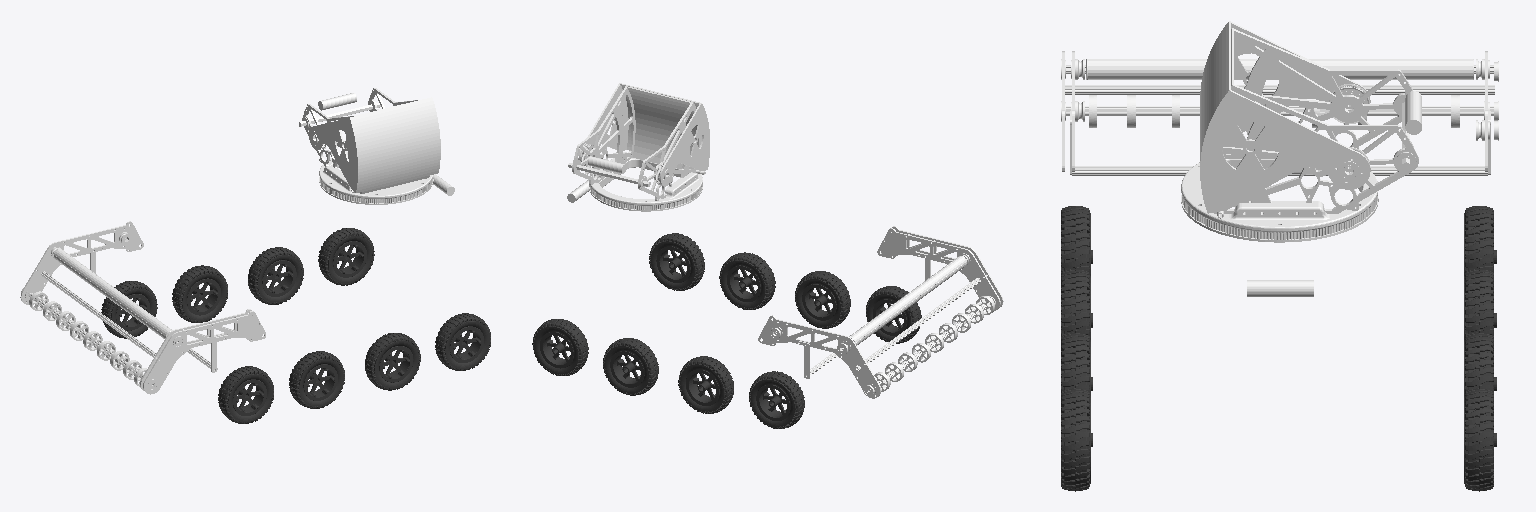
robot.urdf — robot:
<?xml version="1.0" ?>
<!-- =================================================================================== -->
<!-- |    This document was autogenerated by xacro from [local-path]/robot-frc/src/robot_urdf/urdf/robot.urdf.xacro | -->
<!-- |    EDITING THIS FILE BY HAND IS NOT RECOMMENDED                                 | -->
<!-- =================================================================================== -->
<robot name="robot" xmlns:xacro="http://www.ros.org/wiki/xacro">
  <material name="blue">
    <color rgba="0 0 0.8 1.0"/>
  </material>
  <material name="black">
    <color rgba="0.3 0.3 0.3 0.9"/>
  </material>
  <material name="white">
    <color rgba="1 1 1 0.6"/>
  </material>
  <material name="green">
    <color rgba="0 1 0"/>
  </material>
  <!-- Base -->
  <link name="base_link">
    <visual>
      <geometry>
        <mesh filename="package://robot_urdf/meshes/base.stl"/>
      </geometry>
      <origin rpy="1.57075 0 1.57075" xyz="-0.08 -0.525 0.0"/>
      <material name="blue"/>
    </visual>
    <collision>
      <geometry>
        <box size="0.68 0.68 0.36"/>
      </geometry>
      <origin rpy="0 0 0" xyz="0.1 0 0.221"/>
    </collision>
    <collision>
      <geometry>
        <box size="0.3 0.68 0.12"/>
      </geometry>
      <origin rpy="0 0 0" xyz="-0.32 0 0.1"/>
    </collision>
    <inertial>
      <mass value="27"/>
      <inertia ixx="3.44123325" ixy="0.0" ixz="0.0" iyy="3.13929225" iyz="0.0" izz="1.815741"/>
    </inertial>
  </link>
  <!-- Right Wheels -->
  <link name="front_right_wheel">
    <visual>
      <geometry>
        <mesh filename="package://robot_urdf/meshes/wheel.stl"/>
      </geometry>
      <origin rpy="0 1.57075 1.57075" xyz="0 -0.0127 0"/>
      <material name="black"/>
    </visual>
    <collision>
      <geometry>
        <cylinder length="0.0254" radius="0.0762"/>
      </geometry>
      <origin rpy="0 1.57075 1.57075" xyz="0 -0.0127 0"/>
    </collision>
    <inertial>
      <mass value="0.453592"/>
      <inertia ixx="0.4" ixy="0.0" ixz="0.0" iyy="0.4" iyz="0.0" izz="0.2"/>
    </inertial>
  </link>
  <joint name="base_to_front_right_wheel" type="fixed">
    <parent link="base_link"/>
    <child link="front_right_wheel"/>
    <axis xyz="0 1 0"/>
    <origin xyz="0.315 -0.29 0.028"/>
  </joint>
  <link name="front_middle_right_wheel">
    <visual>
      <geometry>
        <mesh filename="package://robot_urdf/meshes/wheel.stl"/>
      </geometry>
      <origin rpy="0 1.57075 1.57075" xyz="0 -0.0127 0"/>
      <material name="black"/>
    </visual>
    <collision>
      <geometry>
        <cylinder length="0.0254" radius="0.0762"/>
      </geometry>
      <origin rpy="0 1.57075 1.57075" xyz="0 -0.0127 0"/>
    </collision>
    <inertial>
      <mass value="0.453592"/>
      <inertia ixx="0.4" ixy="0.0" ixz="0.0" iyy="0.4" iyz="0.0" izz="0.2"/>
    </inertial>
  </link>
  <joint name="base_to_front_middle_right_wheel" type="fixed">
    <parent link="base_link"/>
    <child link="front_middle_right_wheel"/>
    <axis xyz="0 1 0"/>
    <origin xyz="0.104 -0.29 0.022"/>
  </joint>
  <link name="back_middle_right_wheel">
    <visual>
      <geometry>
        <mesh filename="package://robot_urdf/meshes/wheel.stl"/>
      </geometry>
      <origin rpy="0 1.57075 1.57075" xyz="0 -0.0127 0"/>
      <material name="black"/>
    </visual>
    <collision>
      <geometry>
        <cylinder length="0.0254" radius="0.0762"/>
      </geometry>
      <origin rpy="0 1.57075 1.57075" xyz="0 -0.0127 0"/>
    </collision>
    <inertial>
      <mass value="0.453592"/>
      <inertia ixx="0.4" ixy="0.0" ixz="0.0" iyy="0.4" iyz="0.0" izz="0.2"/>
    </inertial>
  </link>
  <joint name="base_to_back_middle_right_wheel" type="fixed">
    <parent link="base_link"/>
    <child link="back_middle_right_wheel"/>
    <axis xyz="0 1 0"/>
    <origin xyz="-0.122 -0.29 0.022"/>
  </joint>
  <link name="back_right_wheel">
    <visual>
      <geometry>
        <mesh filename="package://robot_urdf/meshes/wheel.stl"/>
      </geometry>
      <origin rpy="0 1.57075 1.57075" xyz="0 -0.0127 0"/>
      <material name="black"/>
    </visual>
    <collision>
      <geometry>
        <cylinder length="0.0254" radius="0.0762"/>
      </geometry>
      <origin rpy="0 1.57075 1.57075" xyz="0 -0.0127 0"/>
    </collision>
    <inertial>
      <mass value="0.453592"/>
      <inertia ixx="0.4" ixy="0.0" ixz="0.0" iyy="0.4" iyz="0.0" izz="0.2"/>
    </inertial>
  </link>
  <joint name="base_to_back_right_wheel" type="fixed">
    <parent link="base_link"/>
    <child link="back_right_wheel"/>
    <axis xyz="0 1 0"/>
    <origin xyz="-0.334 -0.29 0.028"/>
  </joint>
  <!-- Left Wheels -->
  <link name="front_left_wheel">
    <visual>
      <geometry>
        <mesh filename="package://robot_urdf/meshes/wheel.stl"/>
      </geometry>
      <origin rpy="0 1.57075 1.57075" xyz="0 0.0127 0"/>
      <material name="black"/>
    </visual>
    <collision>
      <geometry>
        <cylinder length="0.0254" radius="0.0762"/>
      </geometry>
      <origin rpy="0 1.57075 1.57075" xyz="0 0.0127 0"/>
    </collision>
    <inertial>
      <mass value="0.453592"/>
      <inertia ixx="0.4" ixy="0.0" ixz="0.0" iyy="0.4" iyz="0.0" izz="0.2"/>
    </inertial>
  </link>
  <joint name="base_to_front_left_wheel" type="fixed">
    <parent link="base_link"/>
    <child link="front_left_wheel"/>
    <axis xyz="0 1 0"/>
    <origin xyz="0.315 0.29 0.028"/>
  </joint>
  <link name="front_middle_left_wheel">
    <visual>
      <geometry>
        <mesh filename="package://robot_urdf/meshes/wheel.stl"/>
      </geometry>
      <origin rpy="0 1.57075 1.57075" xyz="0 0.0127 0"/>
      <material name="black"/>
    </visual>
    <collision>
      <geometry>
        <cylinder length="0.0254" radius="0.0762"/>
      </geometry>
      <origin rpy="0 1.57075 1.57075" xyz="0 0.0127 0"/>
    </collision>
    <inertial>
      <mass value="0.453592"/>
      <inertia ixx="0.4" ixy="0.0" ixz="0.0" iyy="0.4" iyz="0.0" izz="0.2"/>
    </inertial>
  </link>
  <joint name="base_to_front_middle_left_wheel" type="fixed">
    <parent link="base_link"/>
    <child link="front_middle_left_wheel"/>
    <axis xyz="0 1 0"/>
    <origin xyz="0.104 0.29 0.022"/>
  </joint>
  <link name="back_middle_left_wheel">
    <visual>
      <geometry>
        <mesh filename="package://robot_urdf/meshes/wheel.stl"/>
      </geometry>
      <origin rpy="0 1.57075 1.57075" xyz="0 0.0127 0"/>
      <material name="black"/>
    </visual>
    <collision>
      <geometry>
        <cylinder length="0.0254" radius="0.0762"/>
      </geometry>
      <origin rpy="0 1.57075 1.57075" xyz="0 0.0127 0"/>
    </collision>
    <inertial>
      <mass value="0.453592"/>
      <inertia ixx="0.4" ixy="0.0" ixz="0.0" iyy="0.4" iyz="0.0" izz="0.2"/>
    </inertial>
  </link>
  <joint name="base_to_back_middle_left_wheel" type="fixed">
    <parent link="base_link"/>
    <child link="back_middle_left_wheel"/>
    <axis xyz="0 1 0"/>
    <origin xyz="-0.122 0.29 0.022"/>
  </joint>
  <link name="back_left_wheel">
    <visual>
      <geometry>
        <mesh filename="package://robot_urdf/meshes/wheel.stl"/>
      </geometry>
      <origin rpy="0 1.57075 1.57075" xyz="0 0.0127 0"/>
      <material name="black"/>
    </visual>
    <collision>
      <geometry>
        <cylinder length="0.0254" radius="0.0762"/>
      </geometry>
      <origin rpy="0 1.57075 1.57075" xyz="0 0.0127 0"/>
    </collision>
    <inertial>
      <mass value="0.453592"/>
      <inertia ixx="0.4" ixy="0.0" ixz="0.0" iyy="0.4" iyz="0.0" izz="0.2"/>
    </inertial>
  </link>
  <joint name="base_to_back_left_wheel" type="fixed">
    <parent link="base_link"/>
    <child link="back_left_wheel"/>
    <axis xyz="0 1 0"/>
    <origin xyz="-0.334 0.29 0.028"/>
  </joint>
  <!-- Intake -->
  <link name="intake_link">
    <visual>
      <geometry>
        <mesh filename="package://robot_urdf/meshes/intake.stl"/>
      </geometry>
      <origin rpy="3.14159265 0 0" xyz="-0.272 0.506 0.288"/>
      <material name="white"/>
    </visual>
    <collision>
      <geometry>
        <box size="0.36 0.63 0.09"/>
      </geometry>
      <origin rpy="0 0 0" xyz="-0.17 0 0.015"/>
    </collision>
    <collision>
      <geometry>
        <box size="0.1 0.63 0.13"/>
      </geometry>
      <origin rpy="0 0 0" xyz="-0.3 0 -0.03"/>
    </collision>
    <inertial>
      <mass value="0.453592"/>
      <inertia ixx="0.4" ixy="0.0" ixz="0.0" iyy="0.4" iyz="0.0" izz="0.2"/>
    </inertial>
  </link>
  <joint name="intake_to_base_link" type="continuous">
    <parent link="base_link"/>
    <child link="intake_link"/>
    <axis xyz="0 1 0"/>
    <origin xyz="-0.296 0 0.2"/>
  </joint>
  <!-- Turret -->
  <link name="turret_link">
    <visual>
      <geometry>
        <mesh filename="package://robot_urdf/meshes/turret.stl"/>
      </geometry>
      <origin rpy="1.57075 0 0" xyz="-0.12 0.23 -0.12"/>
      <material name="white"/>
    </visual>
    <collision>
      <geometry>
        <box size="0.3 0.3 0.2"/>
      </geometry>
      <origin rpy="0 0 0" xyz="0 0.05 0.15"/>
    </collision>
    <inertial>
      <mass value="0.453592"/>
      <inertia ixx="0.4" ixy="0.0" ixz="0.0" iyy="0.4" iyz="0.0" izz="0.2"/>
    </inertial>
  </link>
  <joint name="turret_to_base_link" type="continuous">
    <parent link="base_link"/>
    <child link="turret_link"/>
    <axis xyz="0 0 1"/>
    <origin xyz="0.232 0 0.38"/>
  </joint>
  <!-- Sensors -->
  <link name="t265_frame">
    <visual>
      <geometry>
        <cylinder length="0.1016" radius="0.0127"/>
      </geometry>
      <origin rpy="0 1.57075 1.57075" xyz="0 0 0"/>
      <material name="white"/>
    </visual>
    <collision>
      <geometry>
        <cylinder length="0.1016" radius="0.0127"/>
      </geometry>
      <origin rpy="0 1.57075 1.57075" xyz="0 0 0"/>
    </collision>
    <inertial>
      <mass value="0.05"/>
      <inertia ixx="0.4" ixy="0.0" ixz="0.0" iyy="0.4" iyz="0.0" izz="0.2"/>
    </inertial>
  </link>
  <joint name="base_to_t265_frame" type="fixed">
    <parent link="base_link"/>
    <child link="t265_frame"/>
    <axis xyz="0 1 0"/>
    <origin xyz="0.42545 0 0.33"/>
  </joint>
  <link name="d435_link">
    <visual>
      <geometry>
        <cylinder length="0.1016" radius="0.0127"/>
      </geometry>
      <origin rpy="0 1.57075 1.57075" xyz="0 0 0"/>
      <material name="white"/>
    </visual>
    <collision>
      <geometry>
        <cylinder length="0.1016" radius="0.0127"/>
      </geometry>
      <origin rpy="0 1.57075 1.57075" xyz="0 0 0"/>
    </collision>
    <inertial>
      <mass value="0.05"/>
      <inertia ixx="0.4" ixy="0.0" ixz="0.0" iyy="0.4" iyz="0.0" izz="0.2"/>
    </inertial>
  </link>
  <joint name="turret_to_d435_link" type="fixed">
    <parent link="turret_link"/>
    <child link="d435_link"/>
    <axis xyz="0 1 0"/>
    <origin rpy="0 -0.523599 1.57075" xyz="0.0 0.2 0.15"/>
  </joint>
</robot>

--- What the picture shows (computed from the rendered views, not written in the file) ---
Views: 3 orthographic renders of the robot side by side, from view 1: azimuth 30°, elevation 25°; view 2: azimuth 150°, elevation 25°; view 3: azimuth 270°, elevation 25°.
Model robot with 13 links and 12 joints (2 continuous, 10 fixed), rooted at base_link, posed all joints at 0.
Visible links, largest first — view 1: turret_link, intake_link, back_right_wheel, front_right_wheel, front_left_wheel, back_middle_left_wheel, front_middle_left_wheel, back_middle_right_wheel, front_middle_right_wheel, back_left_wheel; view 2: turret_link, intake_link, front_middle_left_wheel, back_middle_right_wheel, back_middle_left_wheel, back_left_wheel, front_middle_right_wheel, front_right_wheel, front_left_wheel, back_right_wheel; view 3: turret_link, intake_link, front_left_wheel, front_right_wheel, back_middle_left_wheel, back_middle_right_wheel, back_left_wheel, back_right_wheel, front_middle_left_wheel, front_middle_right_wheel, t265_frame, d435_link.
Link boxes in pixels (box(x1,y1,x2,y2)): turret_link: box(299, 88, 440, 204); intake_link: box(20, 221, 265, 394); back_right_wheel: box(218, 366, 273, 423); front_right_wheel: box(435, 313, 490, 370); front_left_wheel: box(318, 228, 374, 285); back_middle_left_wheel: box(172, 265, 227, 322); front_middle_left_wheel: box(248, 247, 303, 304); back_middle_right_wheel: box(289, 351, 344, 408); front_middle_right_wheel: box(365, 333, 420, 390); back_left_wheel: box(101, 281, 157, 338); turret_link: box(568, 83, 709, 211); intake_link: box(758, 226, 1003, 398); front_middle_left_wheel: box(603, 338, 658, 395); back_middle_right_wheel: box(795, 271, 850, 328); back_middle_left_wheel: box(678, 356, 733, 413); back_left_wheel: box(749, 371, 804, 428); front_middle_right_wheel: box(719, 252, 775, 309); front_right_wheel: box(649, 233, 704, 290); front_left_wheel: box(532, 319, 588, 375); back_right_wheel: box(866, 286, 921, 343); turret_link: box(1181, 21, 1418, 242); intake_link: box(1061, 51, 1498, 175); front_left_wheel: box(1464, 389, 1496, 491); front_right_wheel: box(1061, 389, 1092, 491); back_middle_left_wheel: box(1464, 269, 1496, 339); back_middle_right_wheel: box(1061, 269, 1092, 339); back_left_wheel: box(1464, 206, 1496, 275); back_right_wheel: box(1061, 206, 1092, 275); front_middle_left_wheel: box(1464, 333, 1496, 395); front_middle_right_wheel: box(1061, 333, 1092, 395); t265_frame: box(1247, 280, 1313, 296); d435_link: box(1405, 91, 1421, 134).
Bounding box of the posed robot: 1.09 × 0.6581 × 0.6806 m (x, y, z).
Meshes: 4 distinct files referenced, 10 mesh visuals loaded (3 binary STL); not drawn: 1 (reference not matched to a file when rendering).